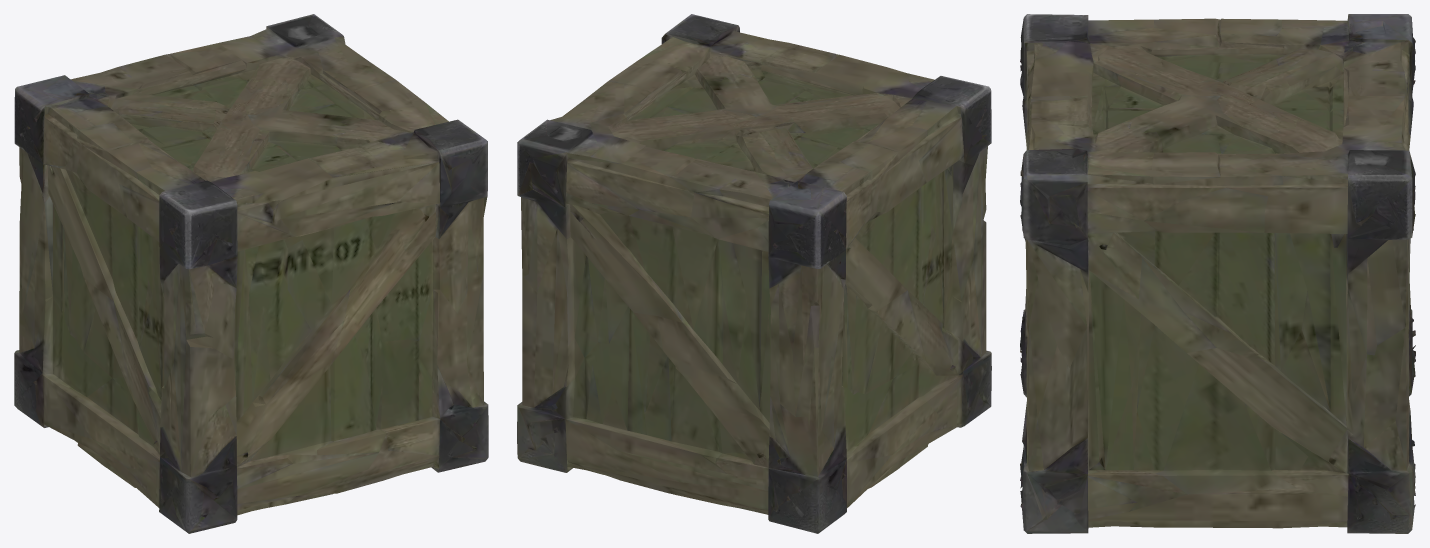
File: crate_wood.glb
The picture shows the model from 3 angles, left to right: view 1: azimuth 30°, elevation 25°; view 2: azimuth 150°, elevation 25°; view 3: azimuth 270°, elevation 25°; orthographic projection. The views are drawn at different scales.
Visible parts, largest first — view 1: Mesh_0; view 2: Mesh_0; view 3: Mesh_0.
Boxes of the visible parts, bbox=[...] form: Mesh_0: bbox=[14, 14, 488, 533]; Mesh_0: bbox=[517, 14, 991, 533]; Mesh_0: bbox=[1020, 14, 1415, 533].
Bounding box in the file's own units: 1.89 × 1.9 × 1.89.
Materials: 1 (1 with a texture image).
